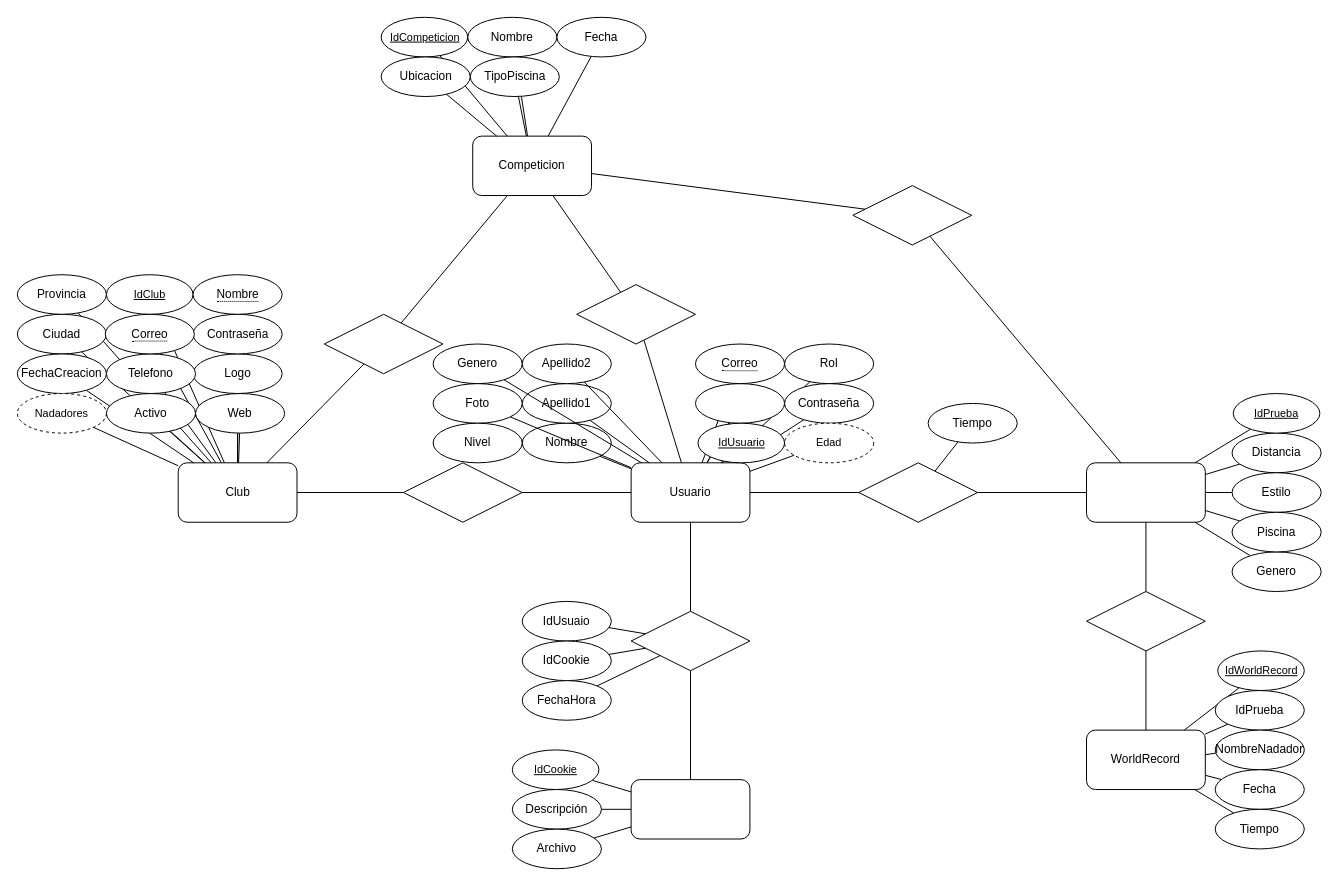
Image size: 1338x886. Some labels were removed from this diagram. The centre of each missing label's shape, as x and y in pixels:
"Competicion_Club" belongs at point 383,343.
"Competicion_Prueba" belongs at point 912,215.
"Competicion_Usuario" belongs at point 635,314.
"Cookie" belongs at point 690,809.
"F_Nacimiento" belongs at point 739,403.
"Prueba" belongs at point 1145,492.
"Usuario_Club" belongs at point 462,492.
"Usuario_Cookie" belongs at point 690,640.
"Usuario_Prueba" belongs at point 918,492.
"WorldRecord_Prueba" belongs at point 1145,621.
